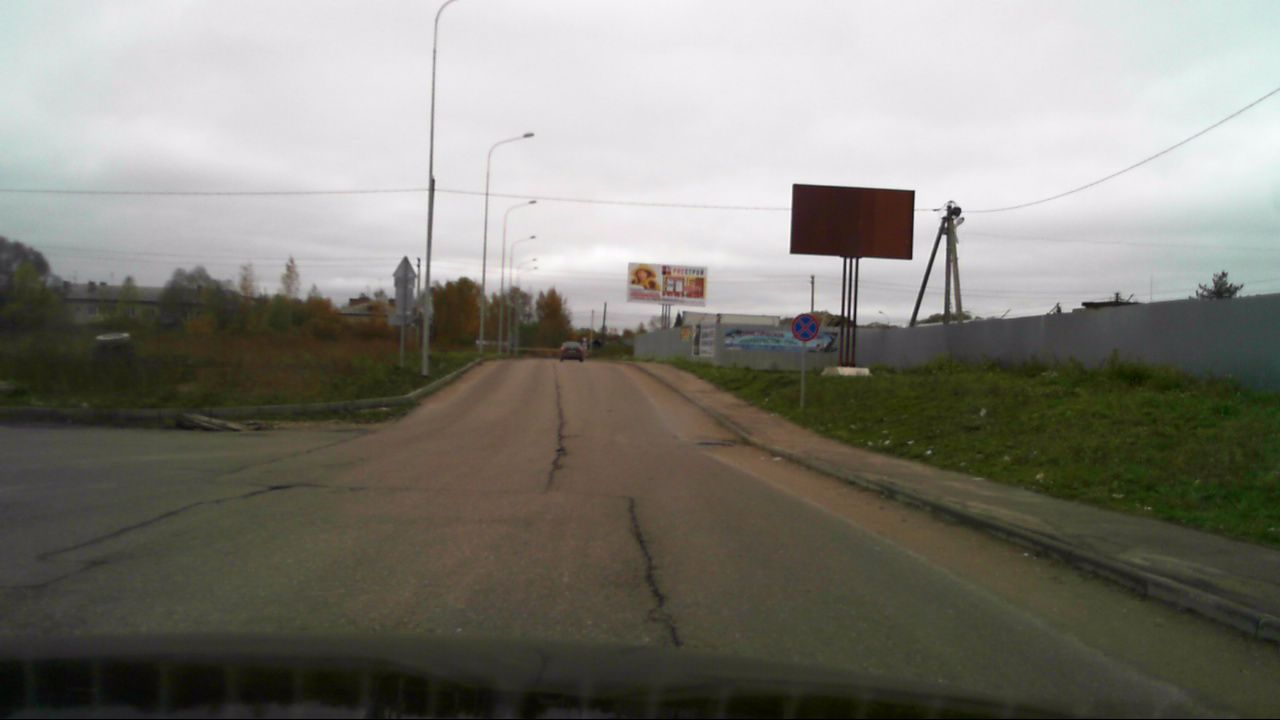No Parking: (790, 312, 820, 343)
